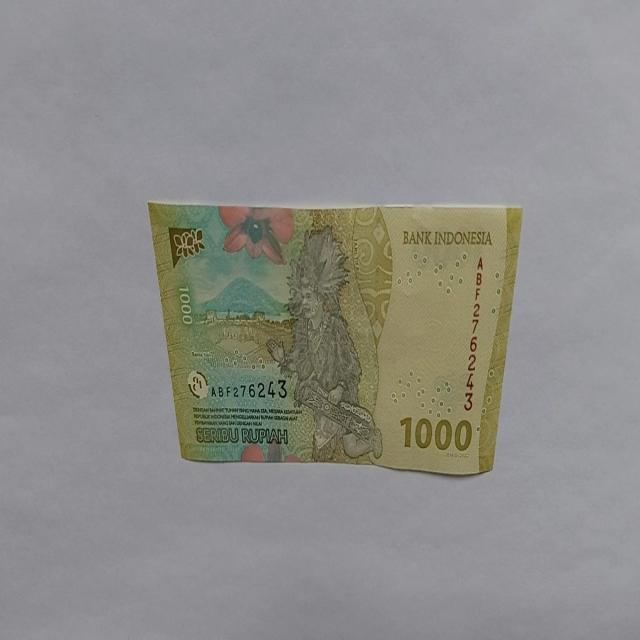seribu rupiah kertas: (147, 200, 523, 475)
